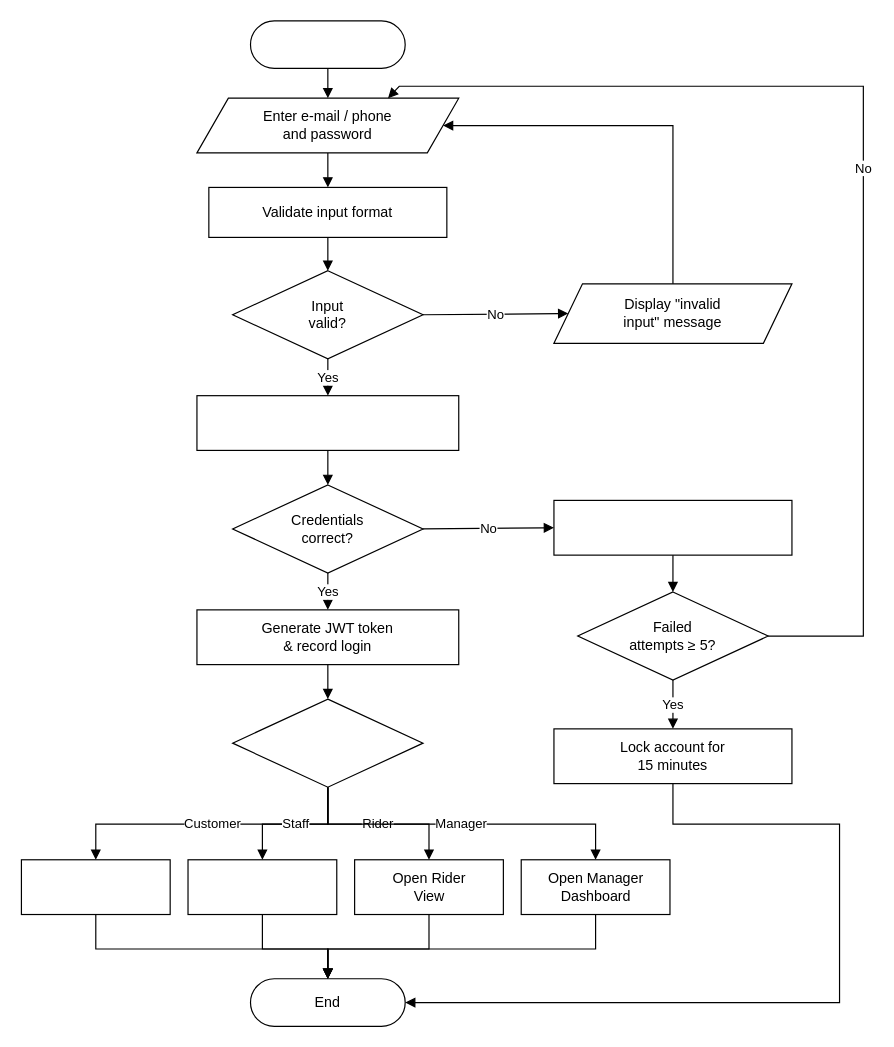
This 894x1047 diagram has some shape labels left out. Here are the shapes that lost their labels. From the top down, the centre of each, then its label:
At point (327, 44): "Start".
At point (327, 422): "Verify credentials (BCrypt hash compare)".
At point (672, 527): "Increase failed-login counter".
At point (327, 742): "User role?".
At point (95, 887): "Open Customer Portal".
At point (262, 887): "Open Staff POS Console".
